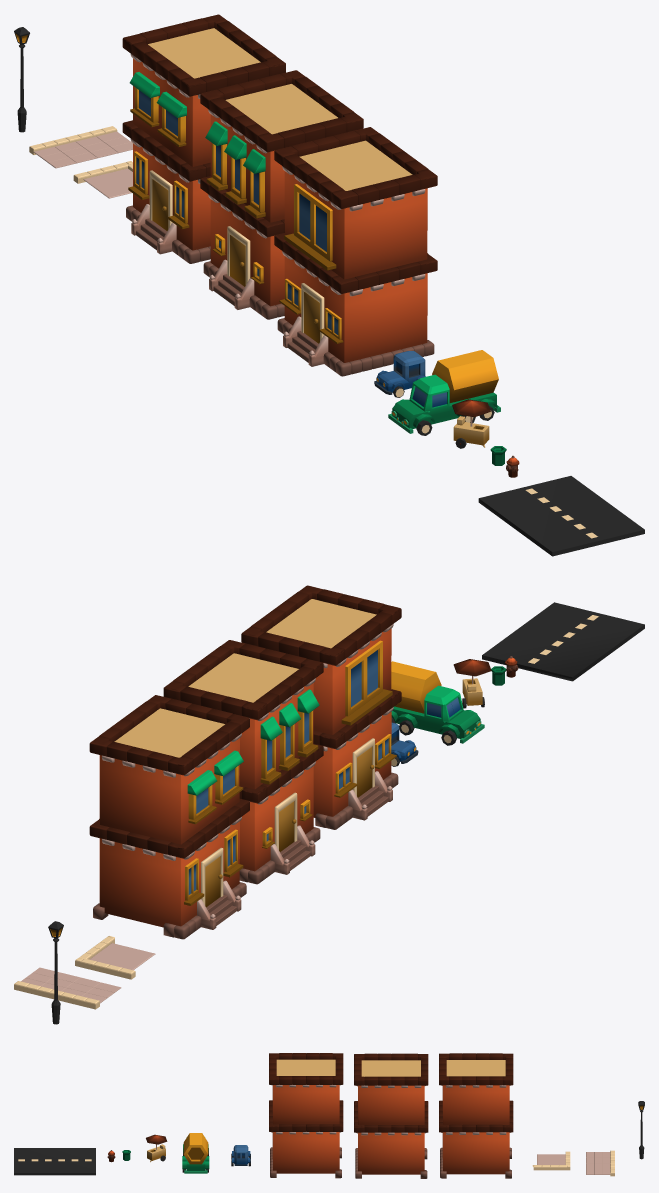
Rendered from Street.fbx.
3 renders of one model, top to bottom at view 1: azimuth 30°, elevation 25°; view 2: azimuth 150°, elevation 25°; view 3: azimuth 270°, elevation 25°, orthographic. The views are drawn at different scales.
Visible parts, largest first — view 1: streetview.614, streetview.441, streetview.615, streetview.513, streetview.629, streetview.590, streetview.641, streetview.587, streetview.665; view 2: streetview.441, streetview.614, streetview.615, streetview.513, streetview.629, streetview.590, streetview.587, streetview.665, streetview.641, streetview.677; view 3: streetview.441, streetview.615, streetview.614, streetview.513, streetview.629, streetview.590, streetview.587, streetview.665, streetview.641, streetview.677.
Boxes of the visible parts, x1=… form: streetview.614: x1=274, y1=127, x2=437, y2=376; streetview.441: x1=122, y1=14, x2=285, y2=263; streetview.615: x1=200, y1=70, x2=363, y2=319; streetview.513: x1=478, y1=476, x2=644, y2=556; streetview.629: x1=388, y1=350, x2=500, y2=435; streetview.590: x1=29, y1=126, x2=132, y2=168; streetview.641: x1=374, y1=351, x2=425, y2=397; streetview.587: x1=73, y1=161, x2=132, y2=198; streetview.665: x1=452, y1=399, x2=490, y2=448; streetview.441: x1=89, y1=695, x2=249, y2=939; streetview.614: x1=241, y1=585, x2=401, y2=829; streetview.615: x1=163, y1=640, x2=323, y2=884; streetview.513: x1=482, y1=602, x2=644, y2=681; streetview.629: x1=391, y1=661, x2=484, y2=745; streetview.590: x1=14, y1=967, x2=121, y2=1009; streetview.587: x1=75, y1=936, x2=155, y2=979; streetview.665: x1=453, y1=659, x2=491, y2=708; streetview.641: x1=391, y1=722, x2=418, y2=766; streetview.677: x1=48, y1=921, x2=63, y2=1024; streetview.441: x1=439, y1=1053, x2=513, y2=1178; streetview.615: x1=354, y1=1053, x2=428, y2=1178; streetview.614: x1=269, y1=1053, x2=343, y2=1178; streetview.513: x1=14, y1=1148, x2=95, y2=1175; streetview.629: x1=182, y1=1133, x2=209, y2=1173; streetview.590: x1=586, y1=1150, x2=614, y2=1176; streetview.587: x1=532, y1=1151, x2=570, y2=1170; streetview.665: x1=146, y1=1134, x2=167, y2=1162; streetview.641: x1=231, y1=1145, x2=250, y2=1166; streetview.677: x1=638, y1=1101, x2=644, y2=1159.
Size of the model in its own units: 2264 by 3390 by 18891.
